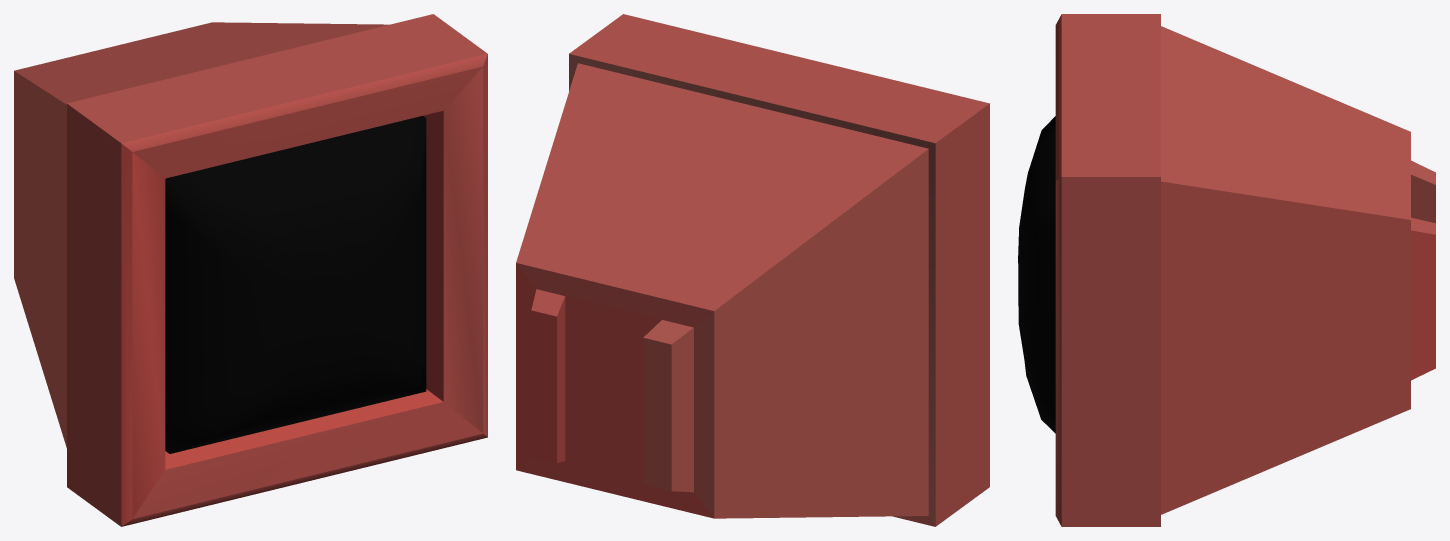
Rendered from spotlight.fbx.
The picture shows the model from 3 angles, left to right: view 1: azimuth 30°, elevation 25°; view 2: azimuth 150°, elevation 25°; view 3: azimuth 270°, elevation 25°; orthographic projection. The views are drawn at different scales.
Visible parts, largest first — view 1: Mesh; view 2: Mesh; view 3: Mesh.
Part boxes in pixels (box(x1,y1,x2,y2)): Mesh: box(14, 14, 487, 526); Mesh: box(516, 14, 989, 526); Mesh: box(1018, 14, 1435, 526).
Size of the model in its own units: 42.84 by 42.84 by 46.37.
